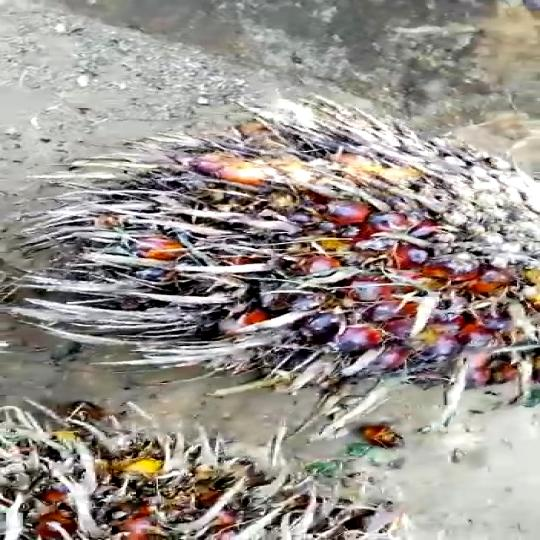terlalu masak: (7, 93, 540, 418)
